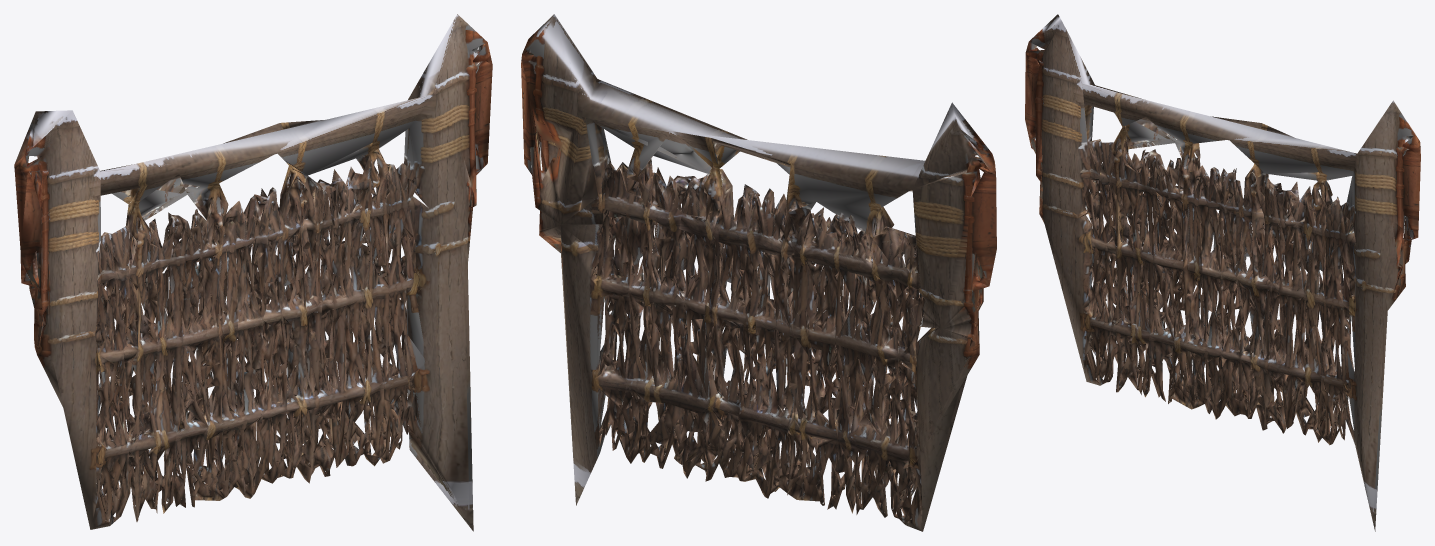
File: PR_Saripmun.fbx
3 renders of one model, left to right at view 1: azimuth 30°, elevation 25°; view 2: azimuth 150°, elevation 25°; view 3: azimuth 330°, elevation 25°, orthographic. The views are drawn at different scales.
Visible parts, largest first — view 1: texture_mapping; view 2: texture_mapping; view 3: texture_mapping.
Boxes of the visible parts, left/top/right/bottom form: texture_mapping: left=14, top=14, right=492, bottom=531; texture_mapping: left=521, top=14, right=996, bottom=531; texture_mapping: left=1025, top=14, right=1420, bottom=531.
Bounding box in the file's own units: 0.9043 × 0.0959 × 0.9205.
Materials: 1 (1 with a texture image).
